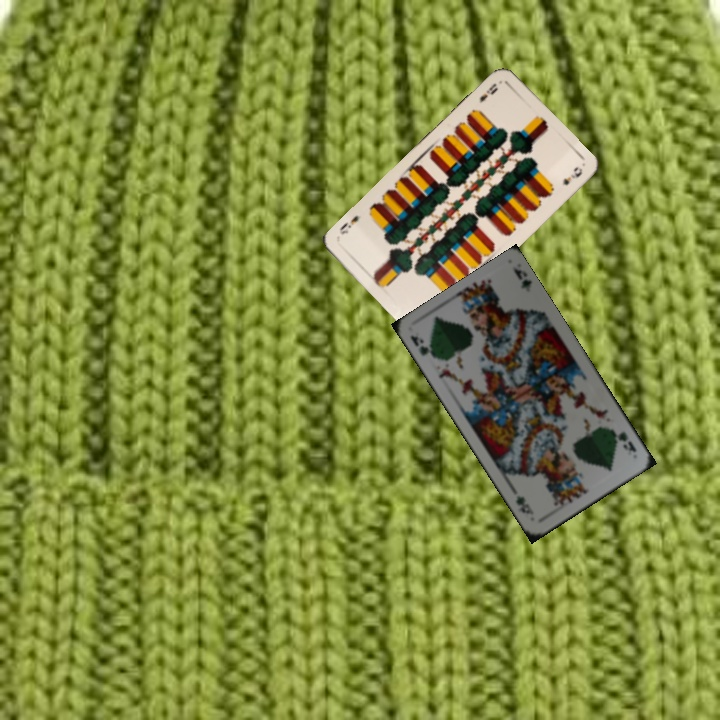E9: (474, 79, 500, 106)
GK: (406, 331, 439, 361), (614, 428, 639, 455)
